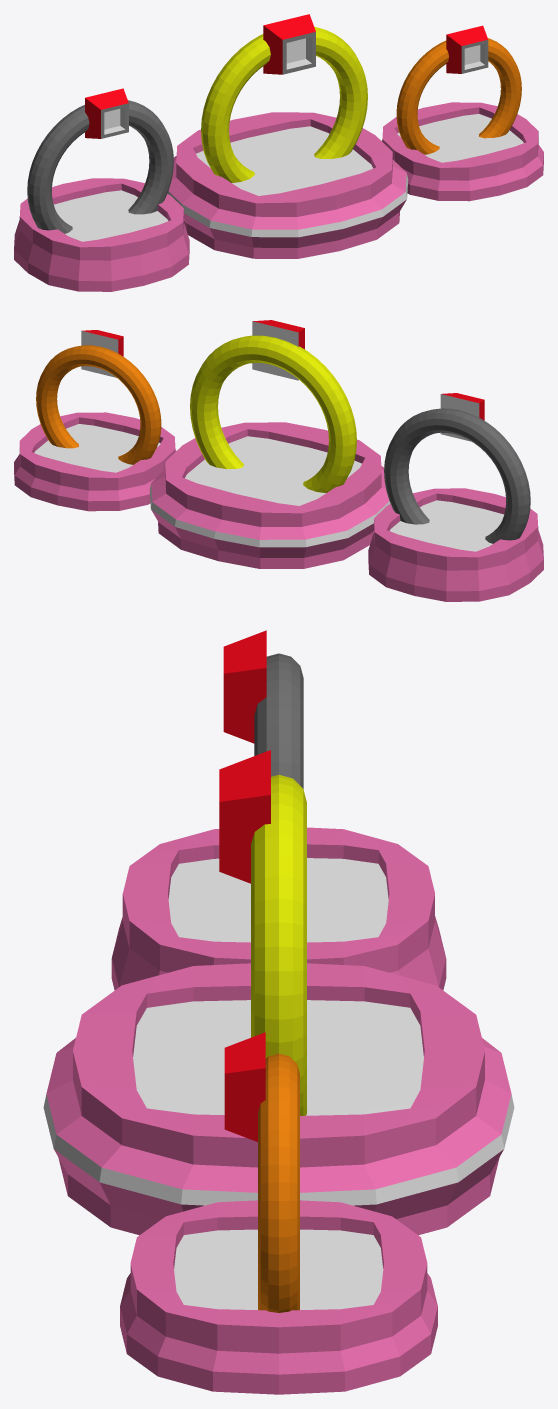
The model's file is podio3.fbx.
The picture shows the model from 3 angles, top to bottom: view 1: azimuth 30°, elevation 25°; view 2: azimuth 150°, elevation 25°; view 3: azimuth 270°, elevation 25°; orthographic projection. The views are drawn at different scales.
Parts seen in each view (by area): view 1: Cube, Cube.001, Cube.002, Cube.003, Cube.004, Cube.005; view 2: Cube, Cube.001, Cube.002, Cube.003, Cube.005, Cube.004; view 3: Cube, Cube.002, Cube.001, Cube.003, Cube.004, Cube.005.
Part boxes in pixels (x1,y1,x2,y2): Cube: (167,27,408,258); Cube.001: (14,100,189,291); Cube.002: (382,38,543,201); Cube.003: (263,14,315,74); Cube.004: (85,88,128,138); Cube.005: (446,25,488,73); Cube: (149,335,390,568); Cube.001: (368,408,543,601); Cube.002: (14,345,175,511); Cube.003: (252,320,304,380); Cube.005: (81,330,123,377); Cube.004: (440,393,484,441); Cube: (43,775,514,1235); Cube.002: (120,1053,437,1394); Cube.001: (111,653,446,990); Cube.003: (219,750,270,883); Cube.004: (223,630,266,743); Cube.005: (224,1032,265,1141).
Bounding box in the file's own units: 2178 × 797 × 884.
